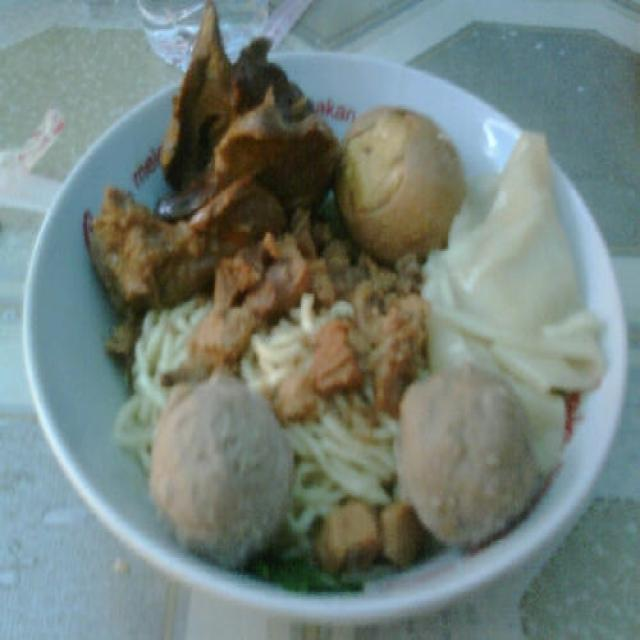面条主食: (41, 60, 619, 612)
